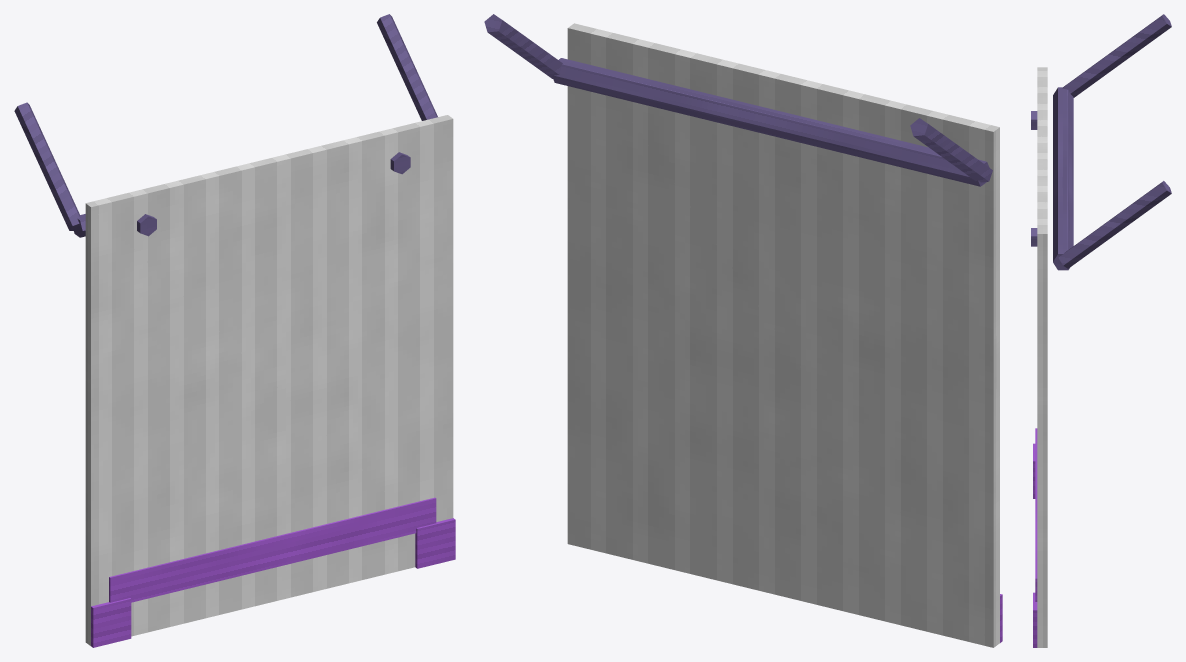
Rendered from para_barro_n5.glb.
The picture shows the model from 3 angles, left to right: view 1: azimuth 30°, elevation 25°; view 2: azimuth 150°, elevation 25°; view 3: azimuth 270°, elevation 25°; orthographic projection. The views are drawn at different scales.
Visible parts, largest first — view 1: para_barro_n5; view 2: para_barro_n5; view 3: para_barro_n5.
Boxes of the visible parts, x1,y1,x2,y2 form: para_barro_n5: (14, 14, 455, 647); para_barro_n5: (484, 14, 1002, 647); para_barro_n5: (1031, 14, 1171, 647).
Bounding box in the file's own units: 0.3945 × 0.4959 × 0.1358.
3 materials, 3 textured.
